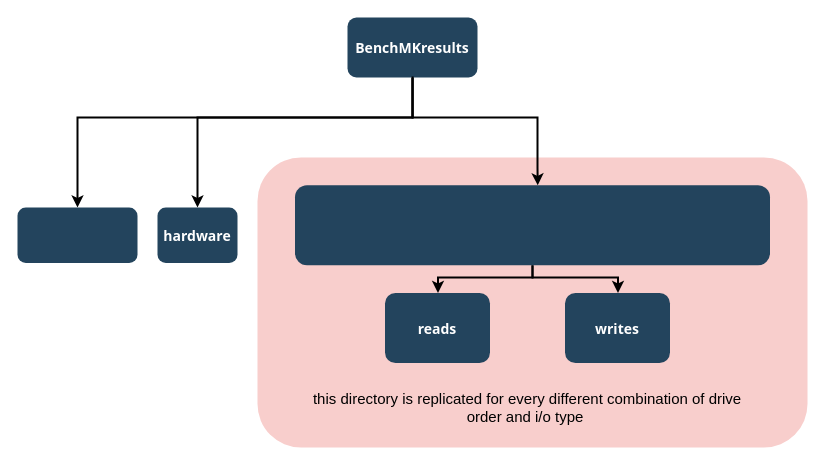
Some shapes in this 824 by 464 pixel diagram are drawn without their labels. The shapes that lost their labels are listed below. From the top down, each one's centre as x and y in pixels, then its label:
the point at 77,234: allResults.json
the point at 532,225: BenchMKresults_type_of_Io_and_drive_order
